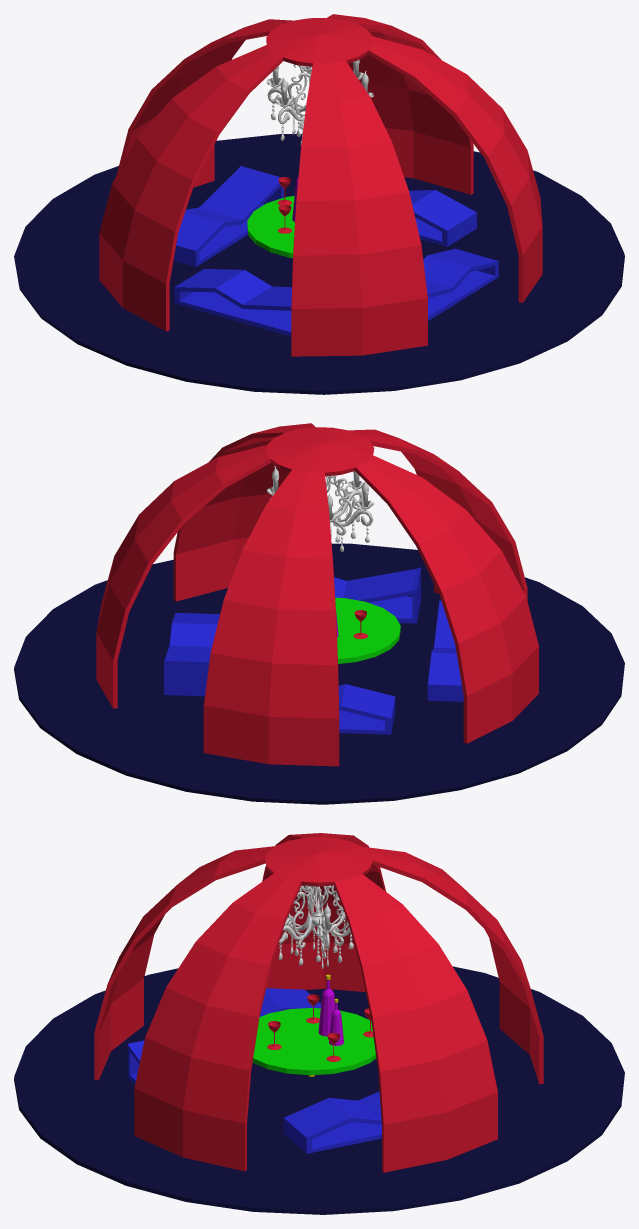
Rendered from new_glassdome_collider_230221.fbx.
The picture shows the model from 3 angles, top to bottom: view 1: azimuth 30°, elevation 25°; view 2: azimuth 150°, elevation 25°; view 3: azimuth 270°, elevation 25°; orthographic projection.
Parts seen in each view (by area): view 1: glassdome; view 2: glassdome; view 3: glassdome.
Part boxes in pixels (box(x1,y1,x2,y2)): glassdome: box(14, 14, 624, 394); glassdome: box(14, 423, 624, 804); glassdome: box(14, 833, 624, 1214).
Size of the model in its own units: 767 by 321 by 767.
